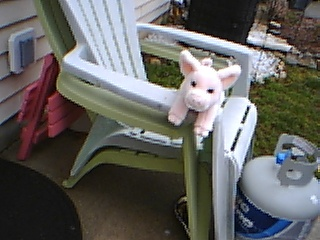piggy: (167, 48, 242, 140)
